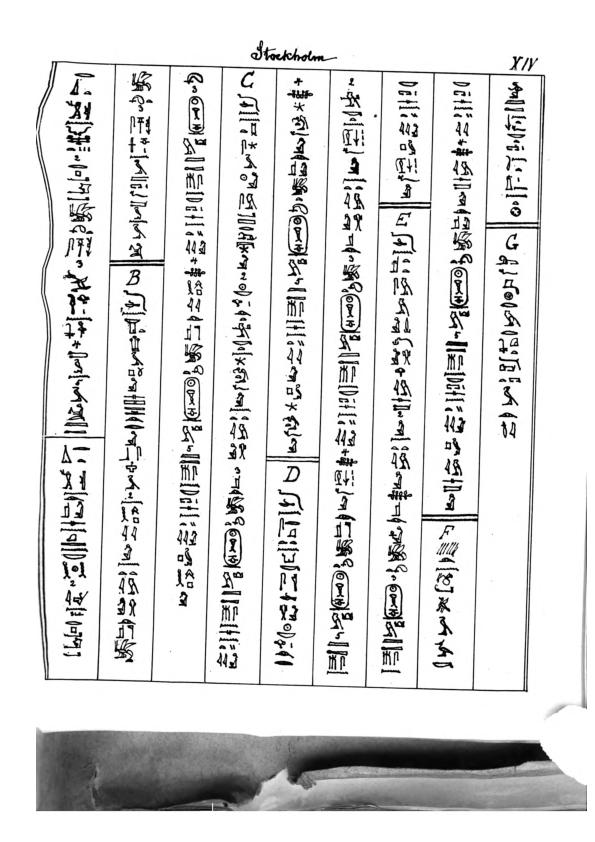circle: (286, 214, 310, 258), (182, 375, 204, 423), (448, 265, 471, 310), (338, 293, 363, 334), (221, 527, 244, 569), (329, 570, 352, 610), (186, 95, 207, 138), (382, 583, 405, 620)
